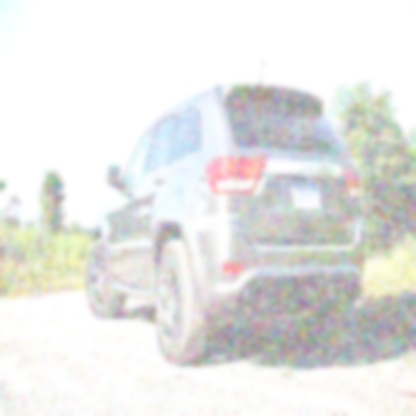Vehicle: (84, 84, 369, 368)
